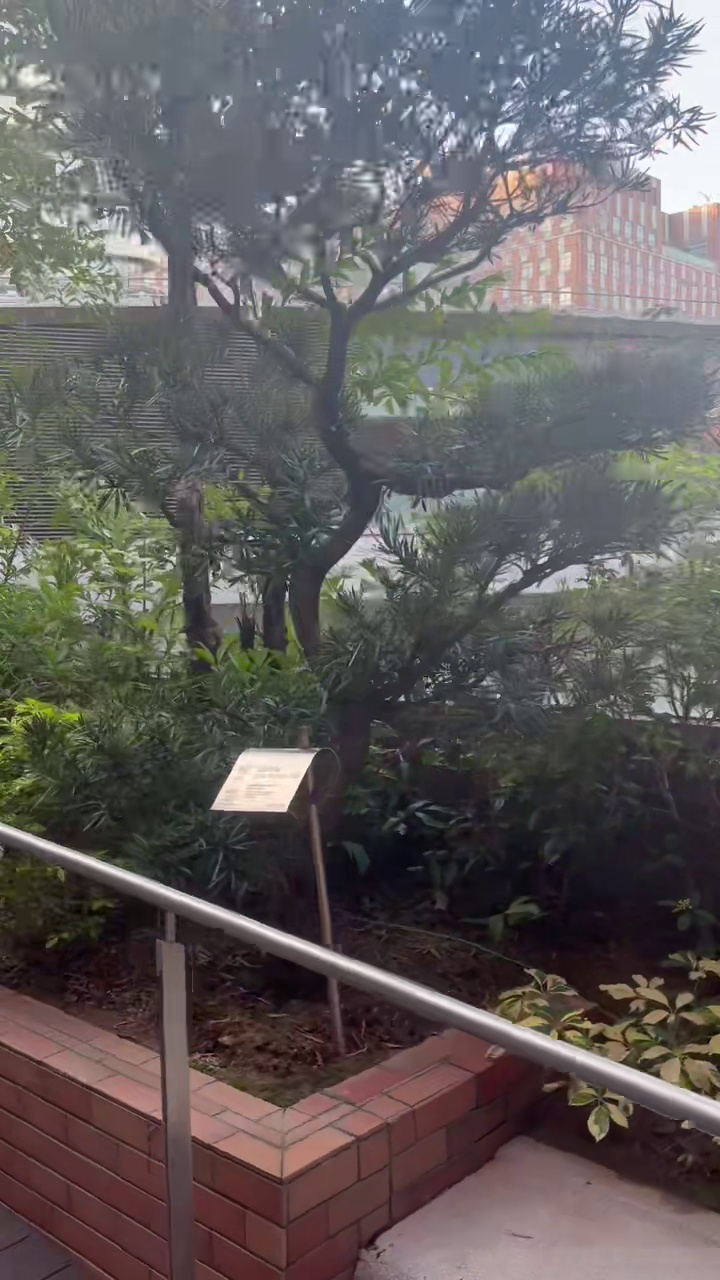Podocarpus macrophyllus: (22, 0, 706, 770)
